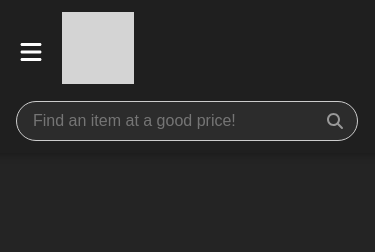
NavBar › toggles mobile menu when button is clicked
# Click to open menu
Click the button: (31, 52) [16, 37, 46, 67]
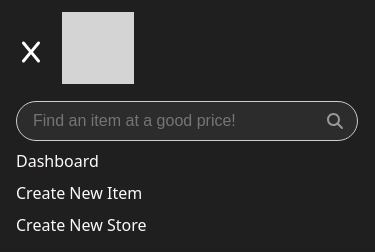
Check: the element showing "Dashboard Create New Item Create New Store" is shown, box [16, 150, 146, 236]
